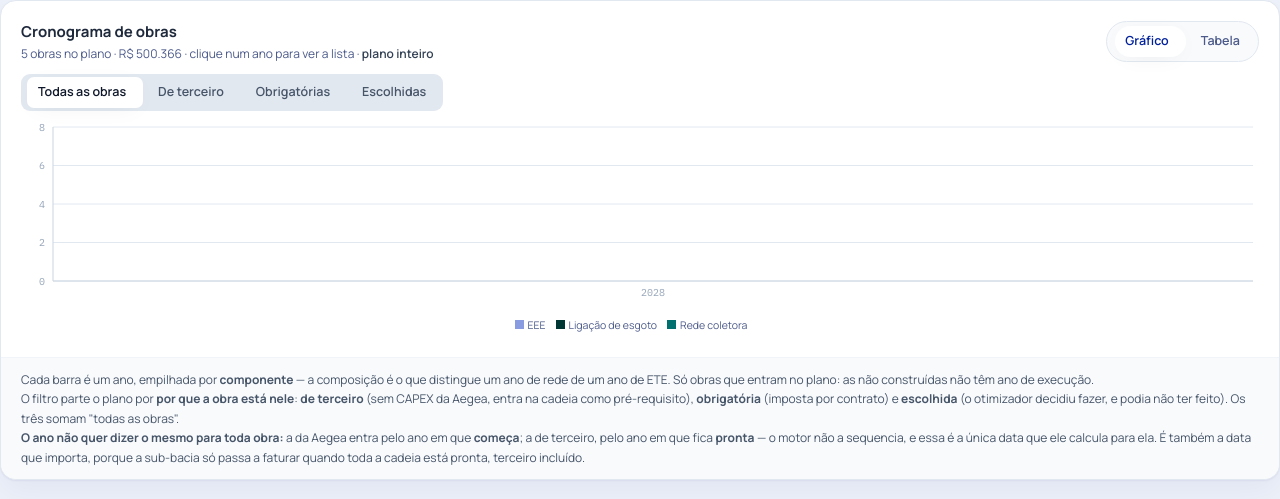
Test case: Cronograma de obras — o filtro de recorte › o subtítulo diz qual recorte está no ar
What coordinates should you click on to do the following:
click the tab "Tabela"
I would click on:
 (1220, 41)
Its box is [1187,26,1254,57].
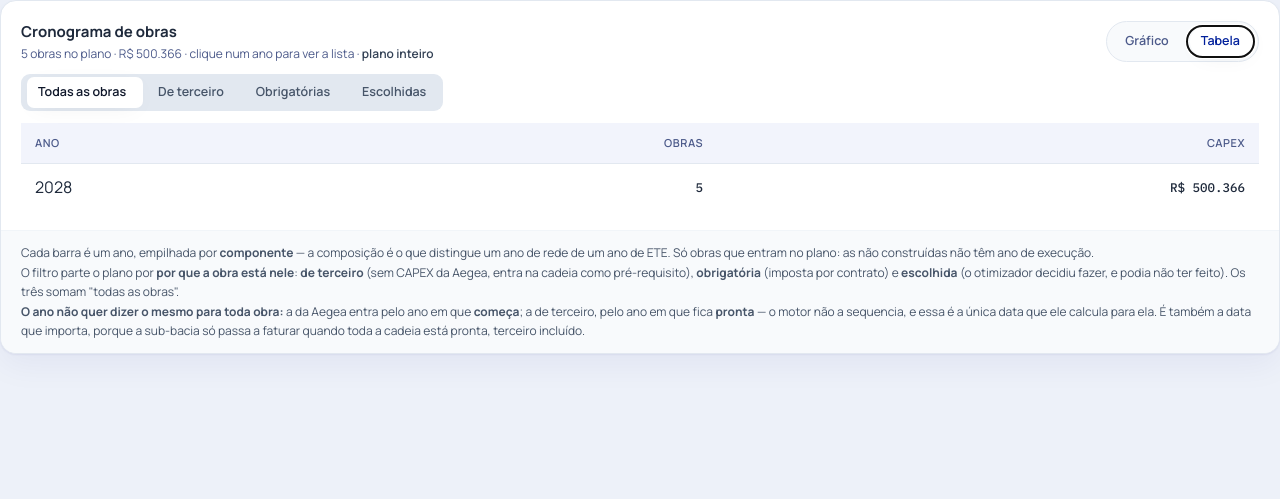
Check: the text "Cronograma de obras" shows "5 obras no plano", box [21,44,354,62]
What coordinates should you click on to do the following:
click the radio button labelled "De terceiro"
I would click on:
 (191, 92)
Its box is [144,77,238,108].
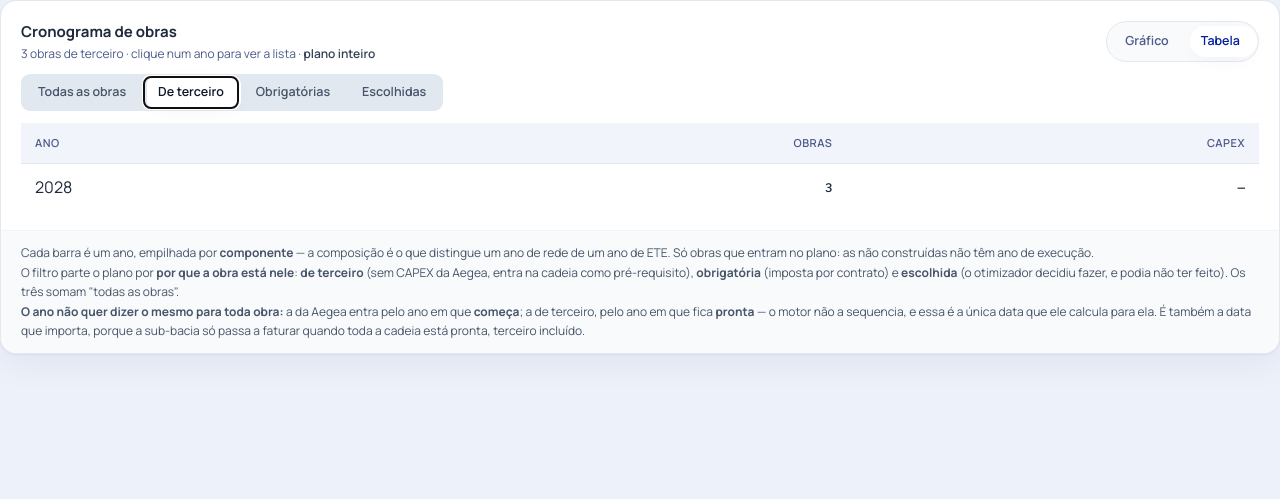
Check: the text "Cronograma de obras" shows "3 obras de terceiro", box [21,44,296,62]
What coordinates should you click on to do the following:
click the radio button labelled "Obrigatórias"
I would click on:
 (293, 92)
Its box is [242,77,344,108].
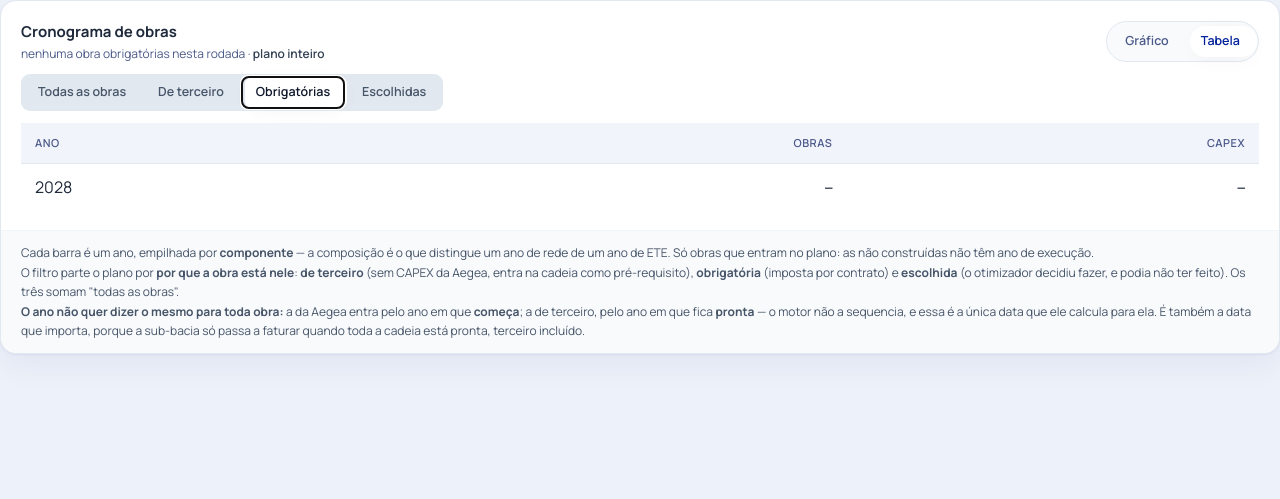
Check: the text "Cronograma de obras" shows "nenhuma obra obrigatórias nesta rodada", box [21,44,245,62]
